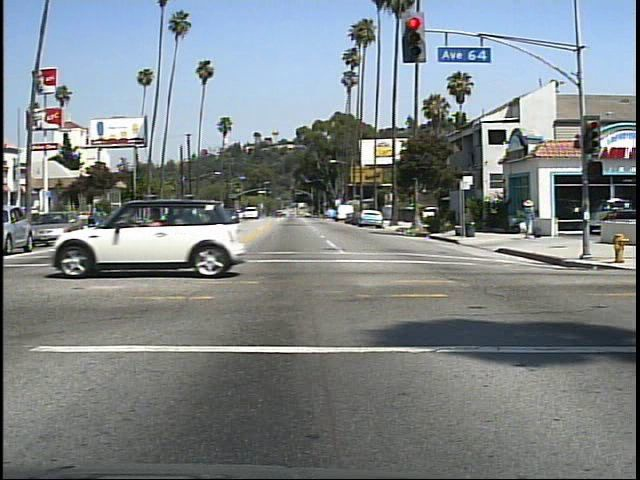person: (517, 194, 542, 243)
